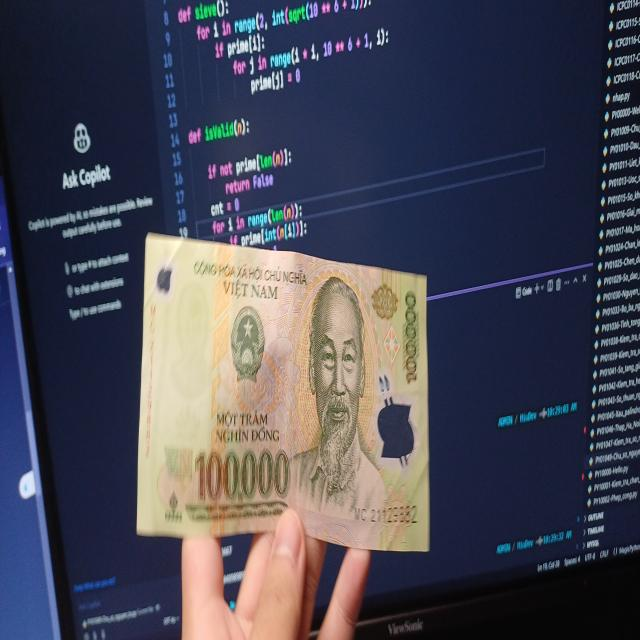100 000 VND: (130, 227, 434, 566)
